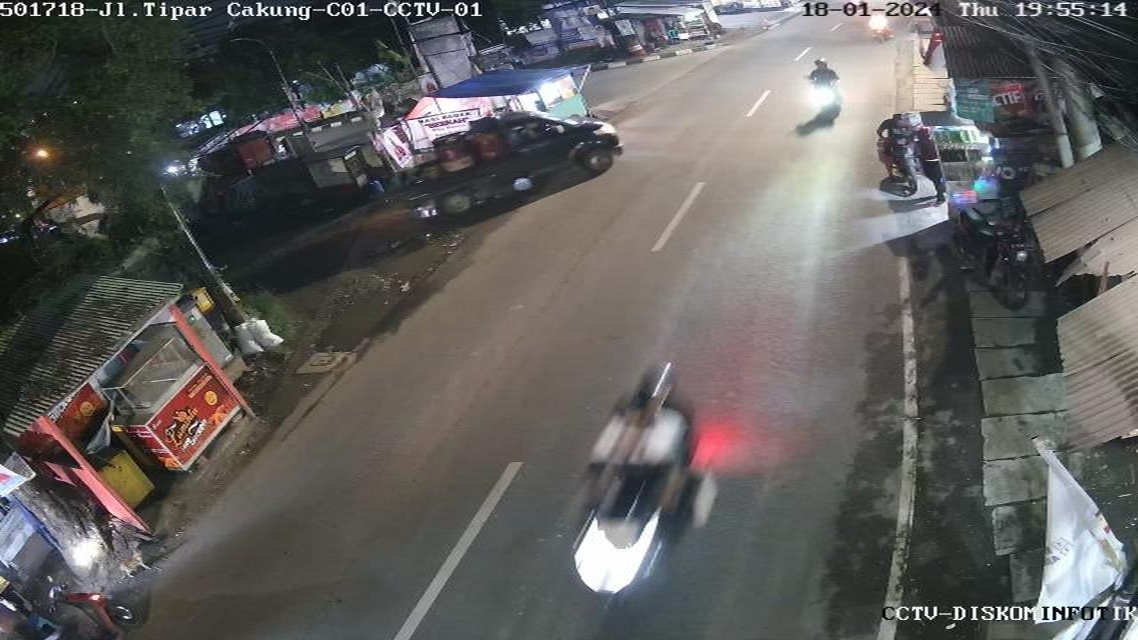Gerobak: (75, 338, 268, 476), (4, 375, 161, 531), (373, 98, 499, 181), (920, 120, 1006, 217), (290, 142, 377, 219), (511, 72, 601, 139)
